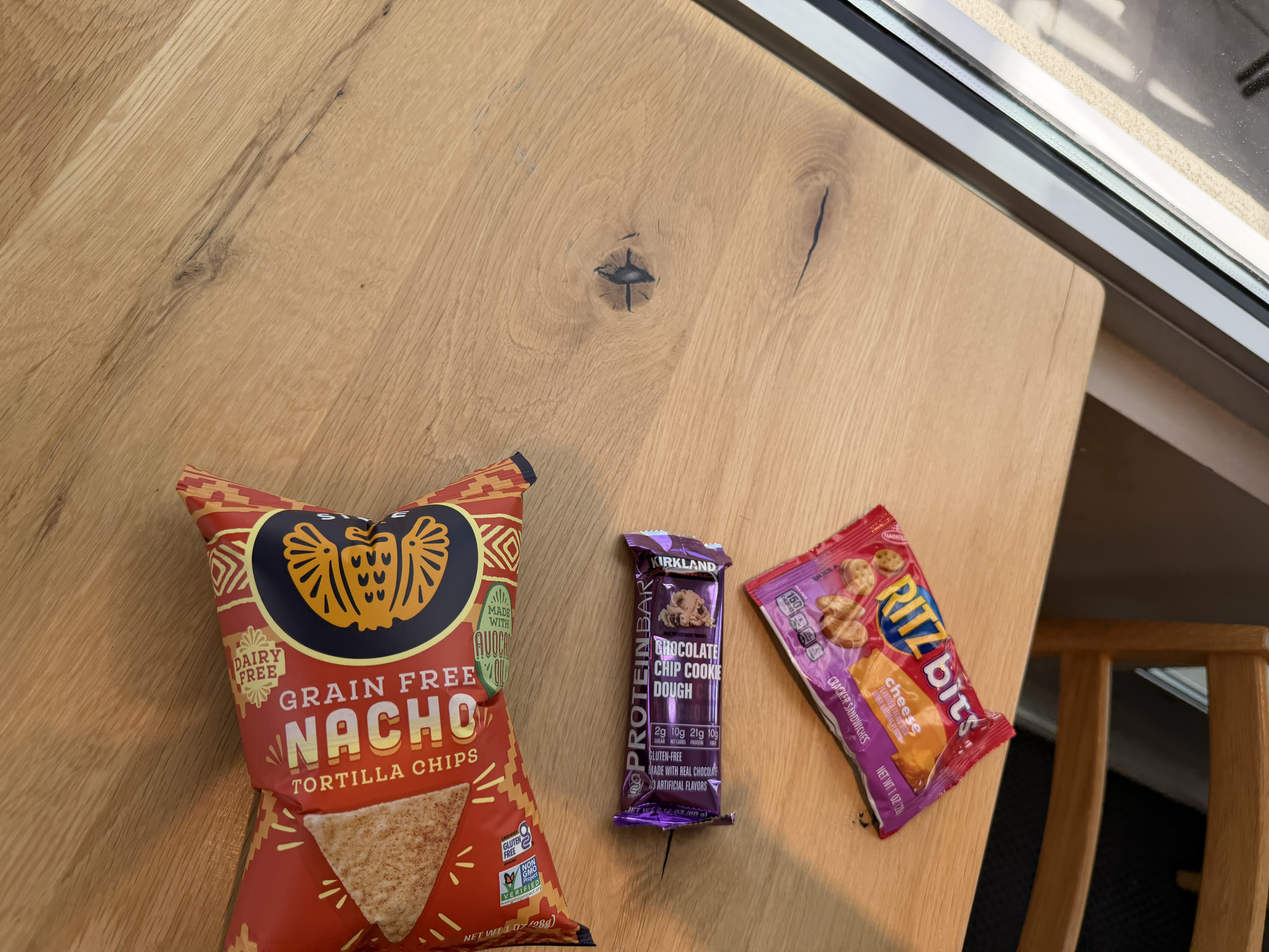chocolate_chip_cookie_dough: (621, 515, 746, 843)
nacho: (167, 452, 600, 951)
ritz_cheese: (756, 496, 1021, 836)
